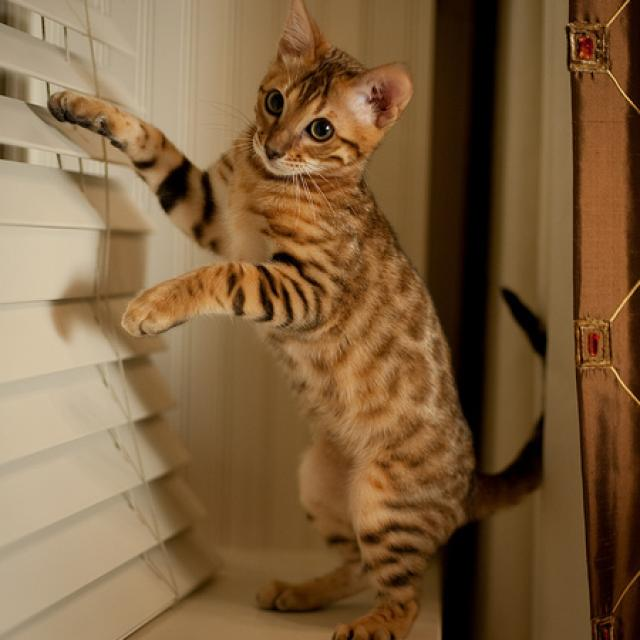Bengal: (39, 0, 578, 640)
